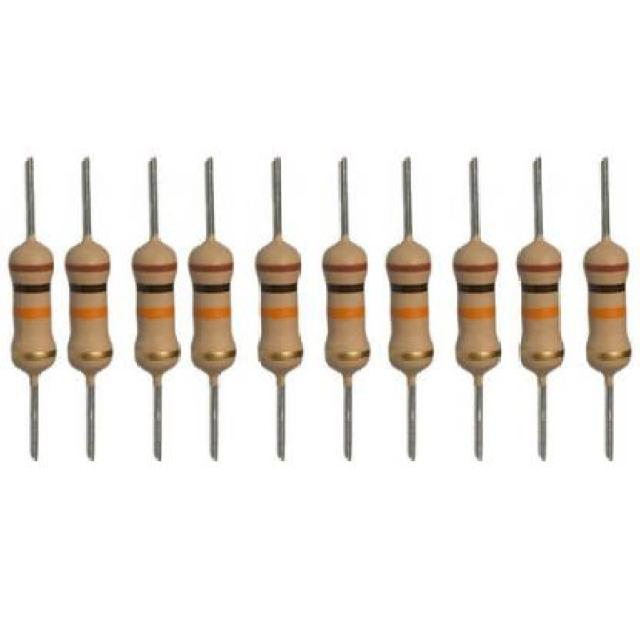Capacitor: (8, 225, 72, 458), (583, 209, 632, 397), (129, 234, 186, 386), (452, 234, 503, 392), (386, 237, 437, 394), (254, 232, 306, 380), (188, 235, 238, 388), (517, 235, 566, 385), (63, 237, 114, 380), (323, 238, 372, 380)
